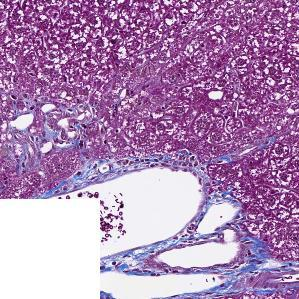fibrosis: (74, 149, 189, 174), (109, 252, 160, 276)
